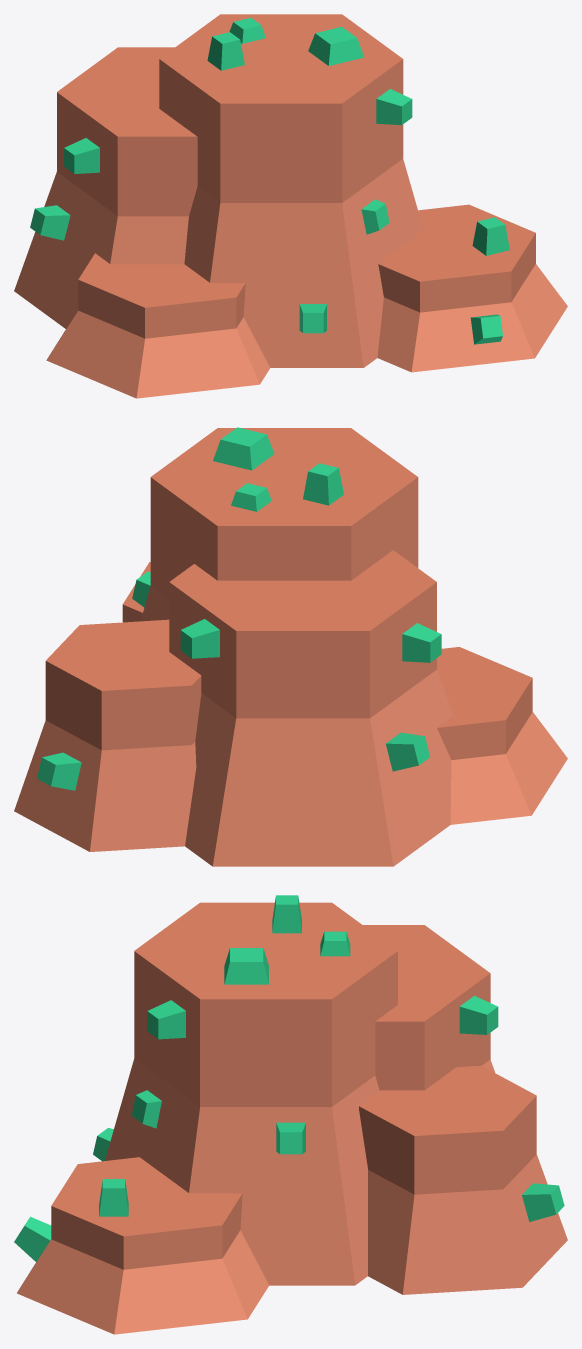
The model's file is rock_crystalsLargeB.dae.
3 views of the same model, one above another, from view 1: azimuth 30°, elevation 25°; view 2: azimuth 150°, elevation 25°; view 3: azimuth 270°, elevation 25° (orthographic). The views are drawn at different scales.
Parts seen in each view (by area): view 1: rock_crystalsLargeB; view 2: rock_crystalsLargeB; view 3: rock_crystalsLargeB.
Part boxes in pixels (<box>): rock_crystalsLargeB: <box>14,14,567,398</box>; rock_crystalsLargeB: <box>14,427,567,866</box>; rock_crystalsLargeB: <box>14,895,567,1334</box>.
Size of the model in its own units: 0.9393 by 0.55 by 0.9321.
